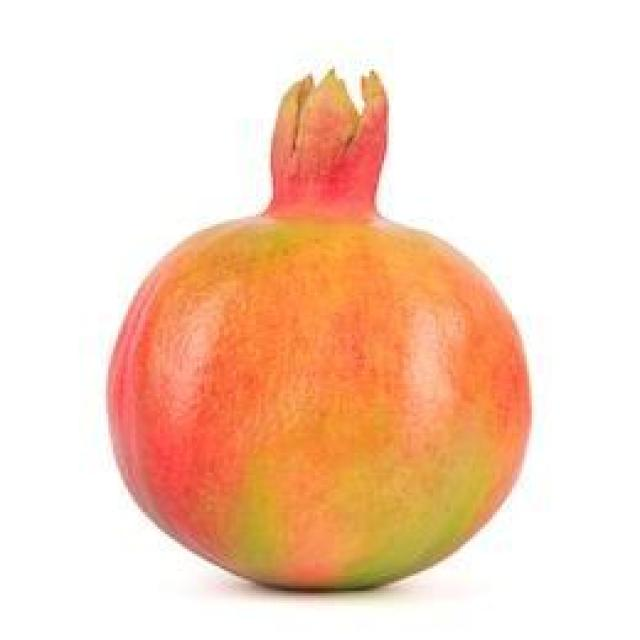Pomegranate: (102, 64, 536, 593)
